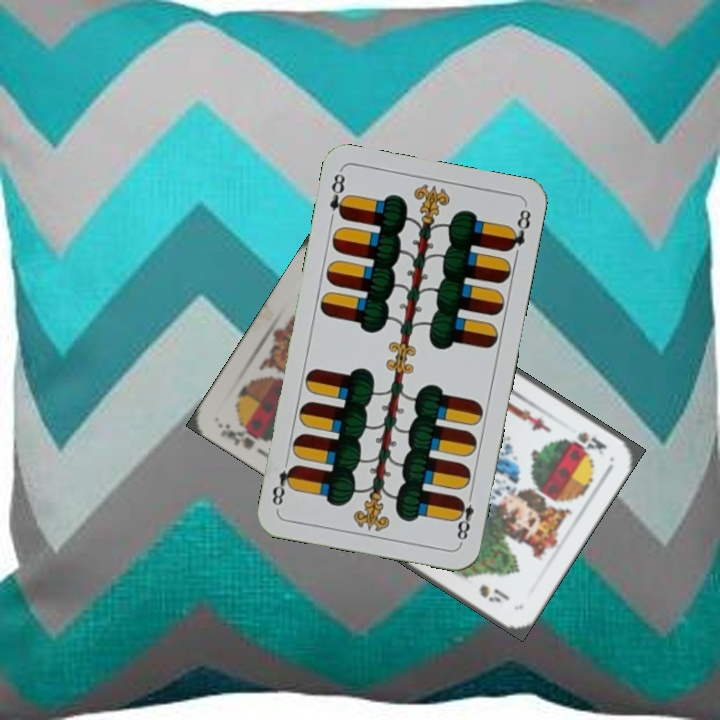E8: (451, 487, 477, 546), (325, 167, 351, 222)
SK: (215, 419, 270, 453), (567, 428, 609, 457)
